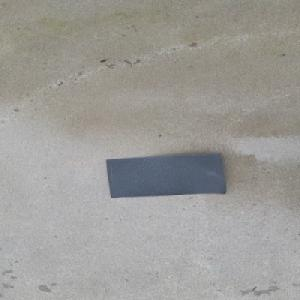PaintChip: (105, 151, 227, 197)
